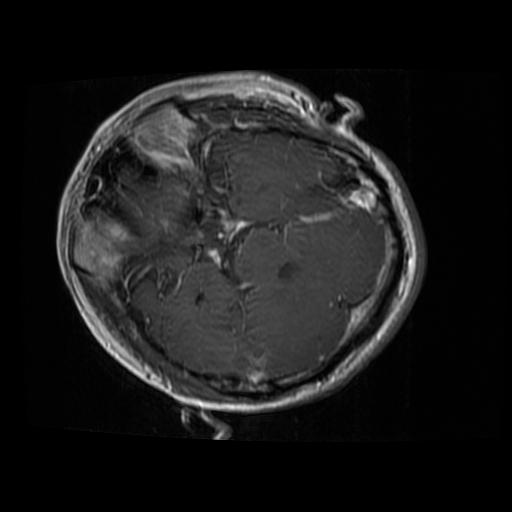glioma: (170, 192, 221, 240)
